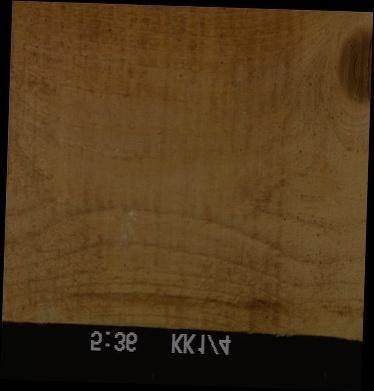sound_knot: (335, 26, 371, 109)
